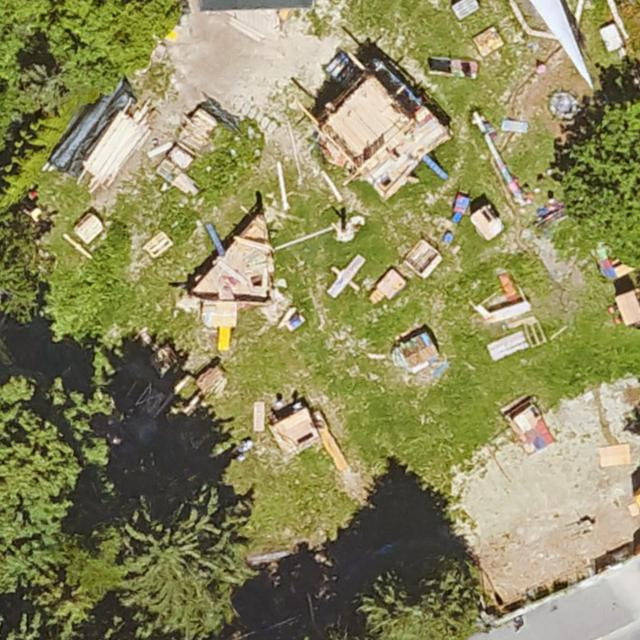tree: (0, 373, 113, 594), (108, 488, 251, 637), (565, 101, 639, 264), (358, 567, 489, 640)
